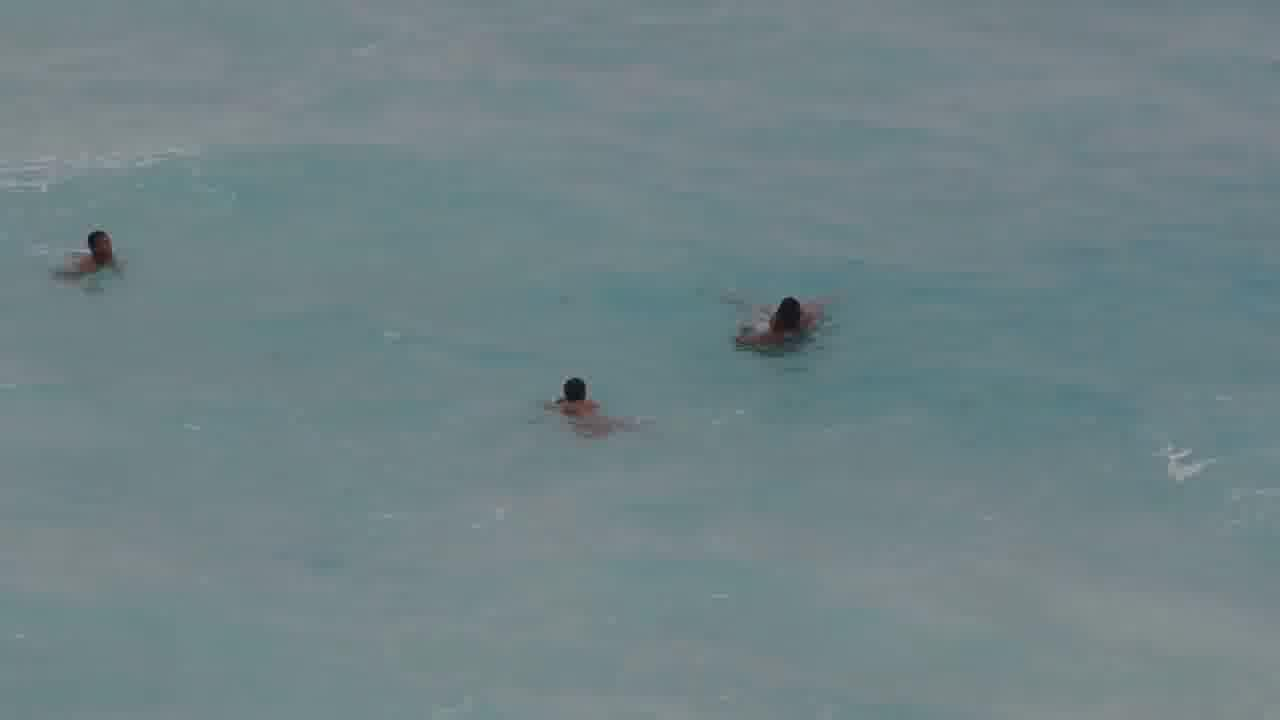swimmer: (725, 282, 837, 349), (536, 363, 626, 433), (48, 230, 129, 294)
